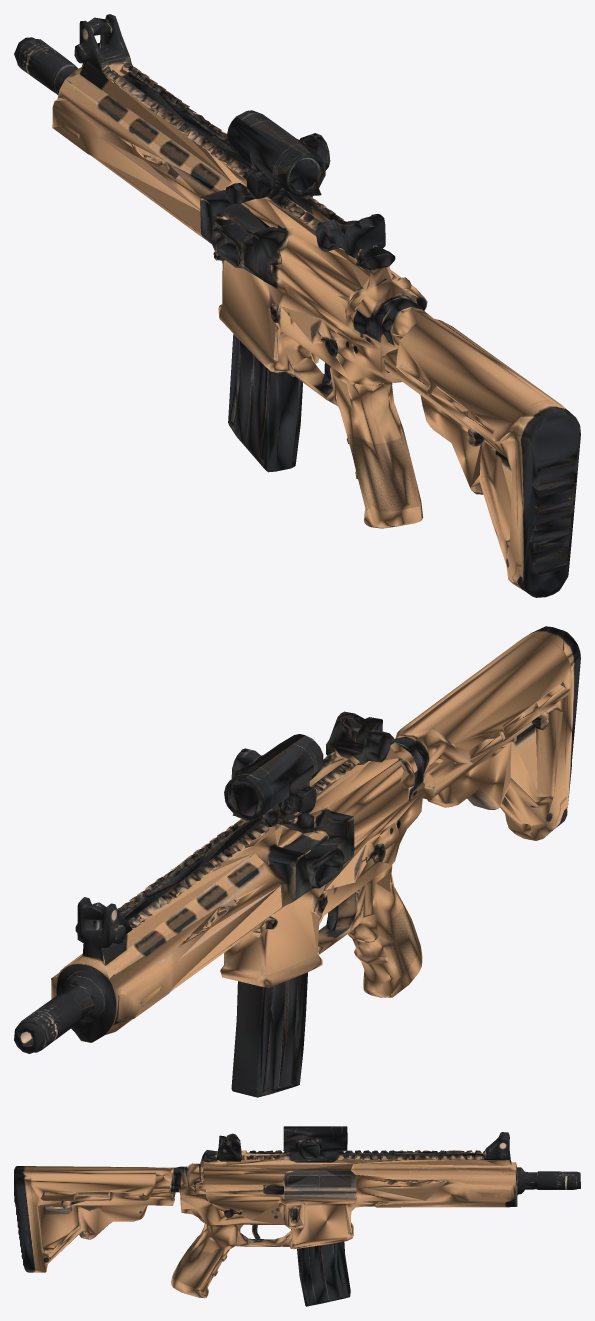
File: ar_tern.glb
The picture shows the model from 3 angles, top to bottom: view 1: azimuth 30°, elevation 25°; view 2: azimuth 150°, elevation 25°; view 3: azimuth 270°, elevation 25°; orthographic projection. The views are drawn at different scales.
Parts seen in each view (by area): view 1: ar_tern; view 2: ar_tern; view 3: ar_tern.
Part boxes in pixels (x1,y1,x2,y2): ar_tern: [14, 14, 580, 597]; ar_tern: [14, 626, 580, 1097]; ar_tern: [14, 1126, 580, 1306].
Size of the model in its own units: 0.0743 by 0.2477 by 0.72.
Materials: 1 (1 with a texture image).
